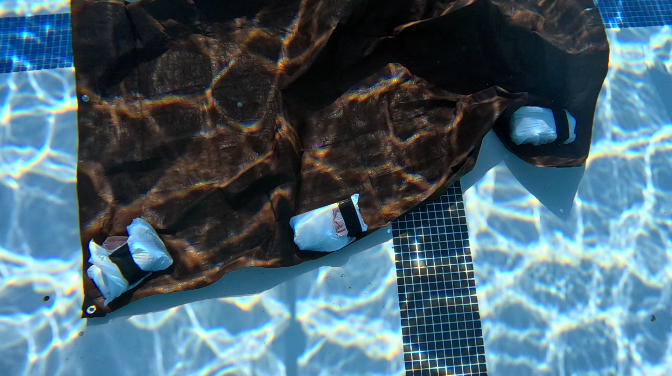sandbag: (70, 0, 610, 318)
